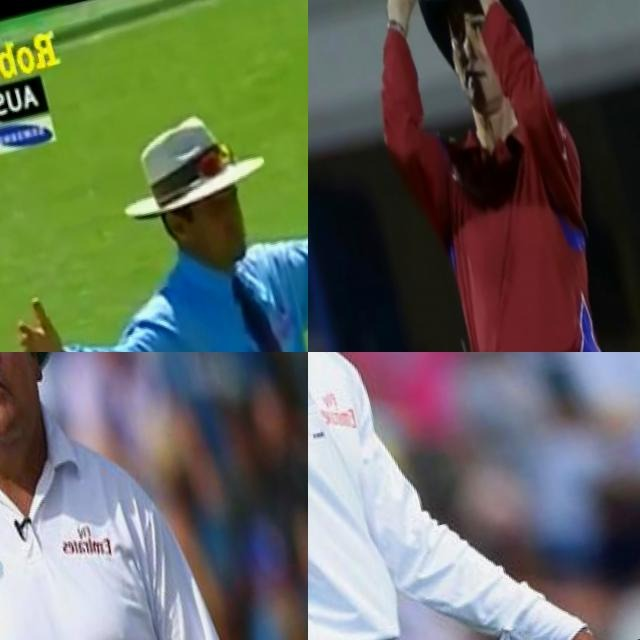No_Action: (308, 352, 640, 640), (0, 352, 287, 640)
Six: (316, 0, 640, 352)
Wide: (0, 41, 308, 352)
